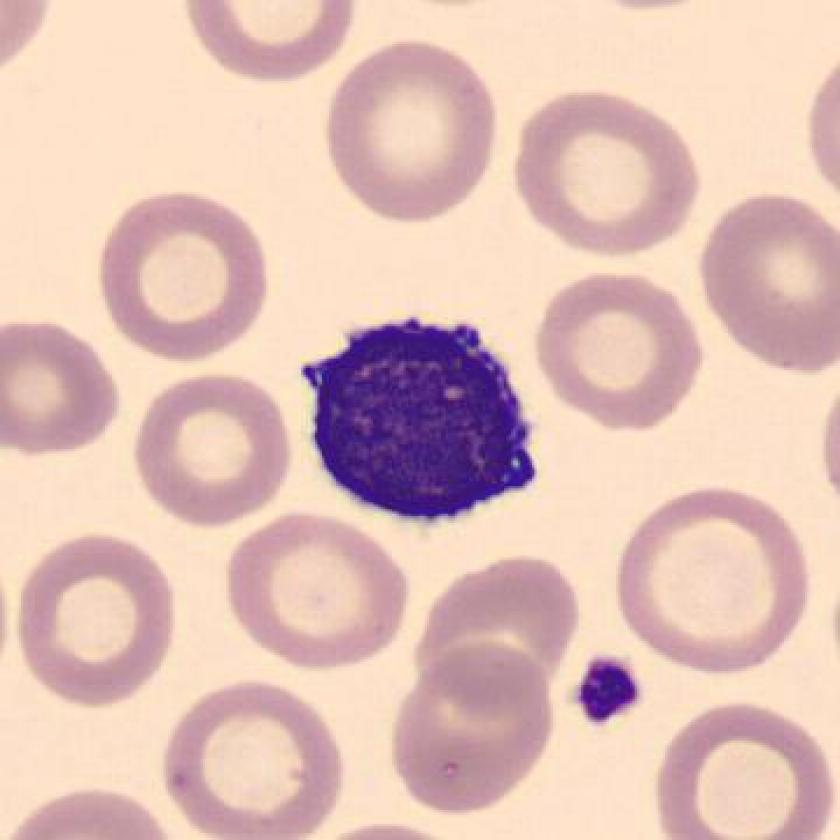lymphocyte: (279, 302, 556, 540)
platelets: (572, 650, 646, 729)
